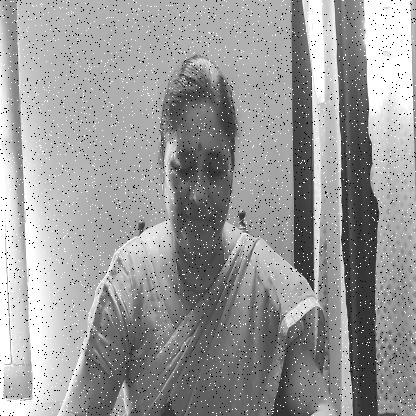Normal: (158, 65, 239, 255)
